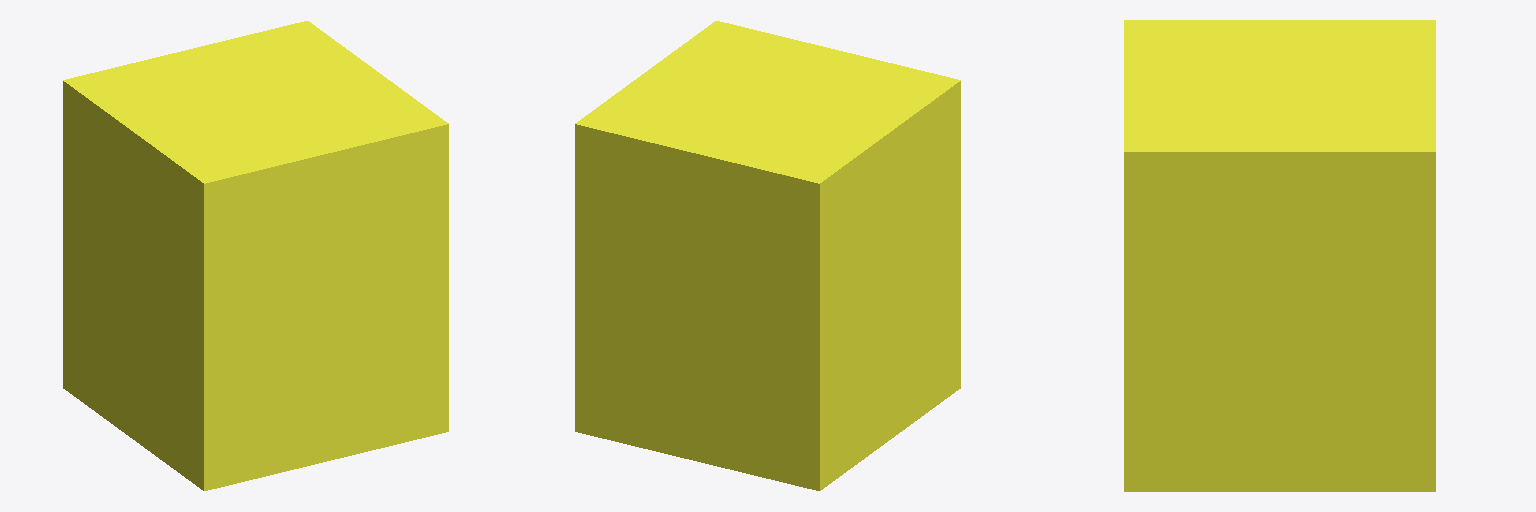
robot.urdf — object:
<?xml version="1.0"?>
<robot name="object">
  <link name="object">
    <visual>
      <origin xyz="0 0 0"/>
      <geometry>
        <!-- 均衡型: 长(x)=0.05, 宽(y)=0.05, 高(z)=0.06 -->
        <box size="0.05 0.05 0.06"/>
      </geometry>
      <material name="color4">
        <color rgba="1.0 1.0 0.3 1.0"/>
      </material>
    </visual>
    <collision>
      <origin xyz="0 0 0"/>
      <geometry>
        <box size="0.05 0.05 0.06"/>
      </geometry>
    </collision>
    <inertial>
      <density value="567.0"/>
    </inertial>
  </link>
</robot>

--- What the picture shows (computed from the rendered views, not written in the file) ---
3 views of the same robot in one strip: view 1: azimuth 30°, elevation 25°; view 2: azimuth 150°, elevation 25°; view 3: azimuth 270°, elevation 25° (orthographic).
Robot: object — 1 links, 0 joints (none); root link object; default pose: every joint at zero.
Links seen in each view (by area): view 1: object; view 2: object; view 3: object.
Boxes of the visible links, x1,y1,x2,y2 form: object: [63, 21, 448, 490]; object: [575, 21, 960, 490]; object: [1124, 20, 1435, 491].
Bounding box of the posed robot: 0.05 × 0.05 × 0.06 m (x, y, z).
Geometry: primitives only (box / cylinder / sphere), no mesh files.